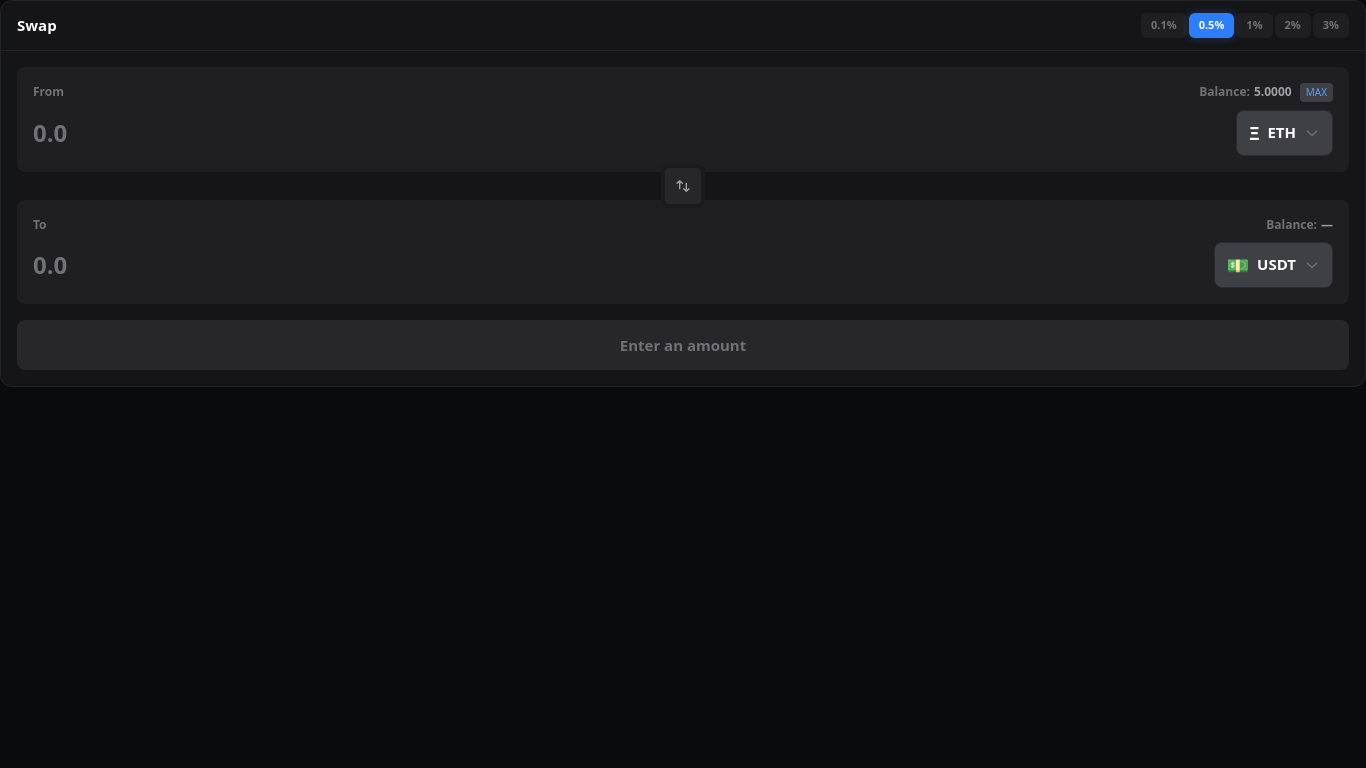
Scenario: SwapInterface › amount input › calculates to amount based on price
Type "1" into the field with placeholder "0.0" below "From" at (629,132), box [33,116,1224,148]
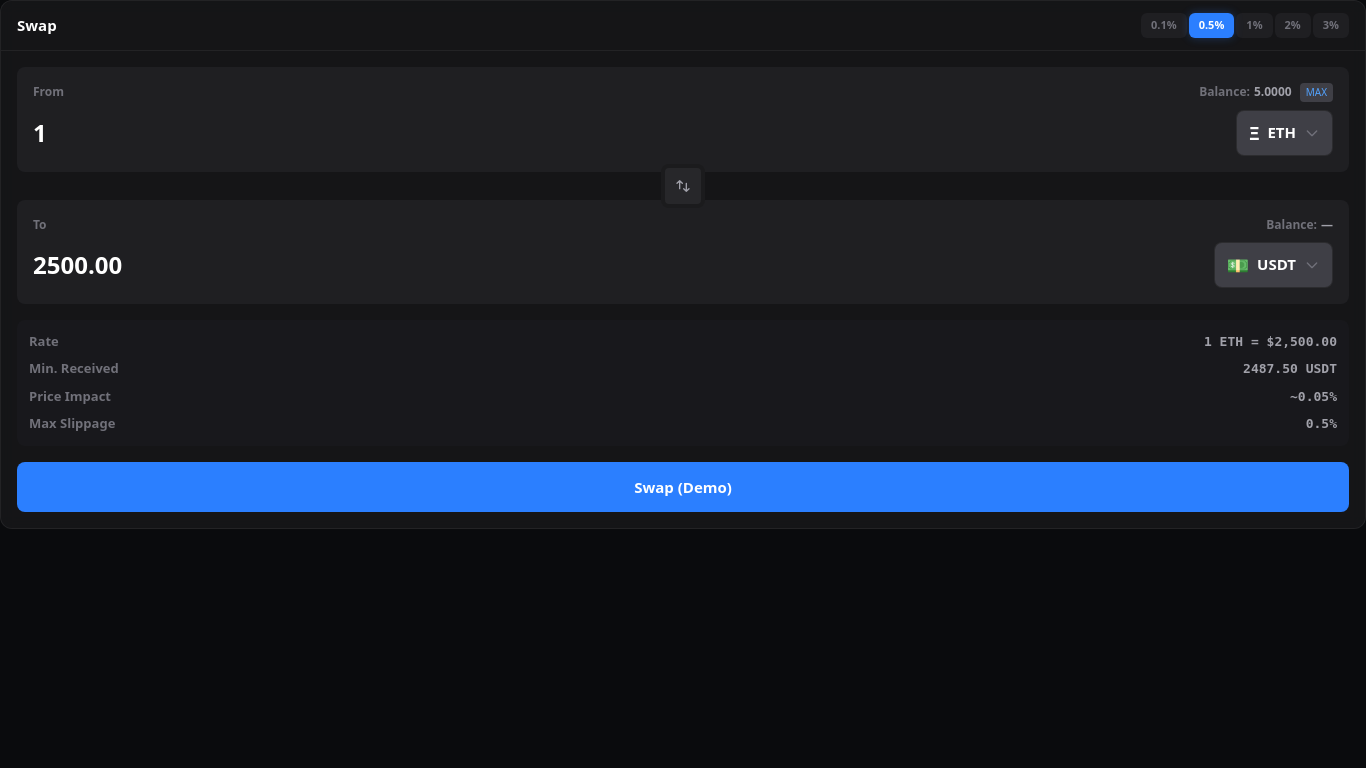
Now the field with placeholder "0.0" below "To" holds "2500.00", box [33,248,1202,280]
